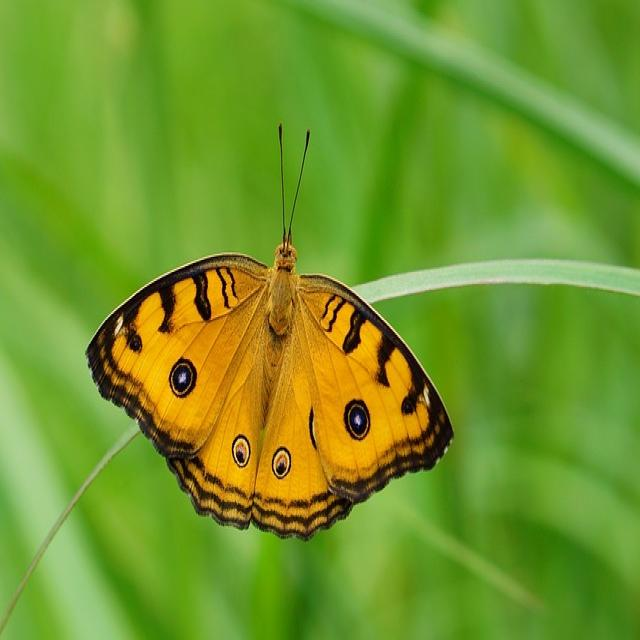butterfly: (88, 200, 453, 541)
